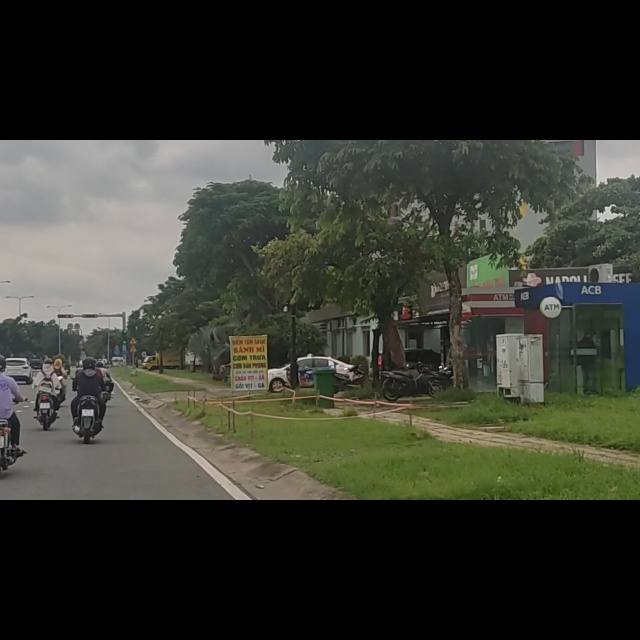Giao nhau với đường không ưu tiên: (129, 338, 137, 345)
Đường người đi bộ sang đường: (129, 346, 137, 352)
